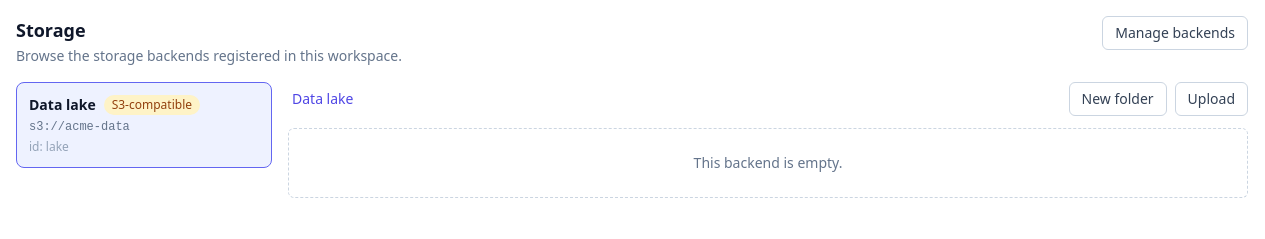
Test: moving between the two views › switches in place with history navigation, without a page reload (which would drop the in-memory token)
Click the button "Manage backends": [1175, 33] box top-left (1102, 16), bottom-right (1248, 50)
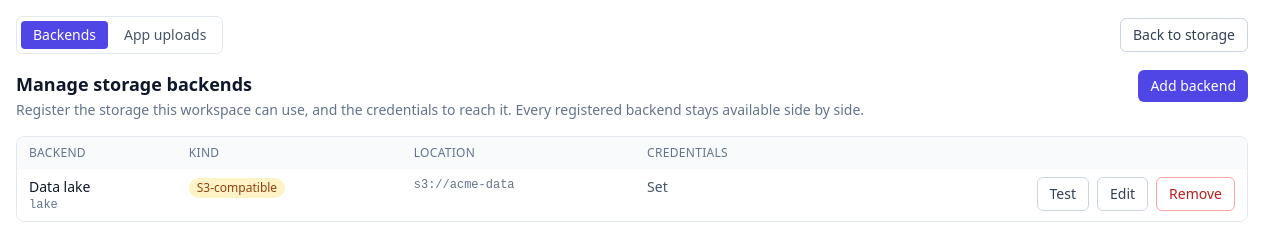
Now the heading "Manage storage backends" is shown, box top-left (16, 72), bottom-right (252, 96)
Click the button "Back to storage": [1184, 35] box top-left (1120, 18), bottom-right (1248, 52)
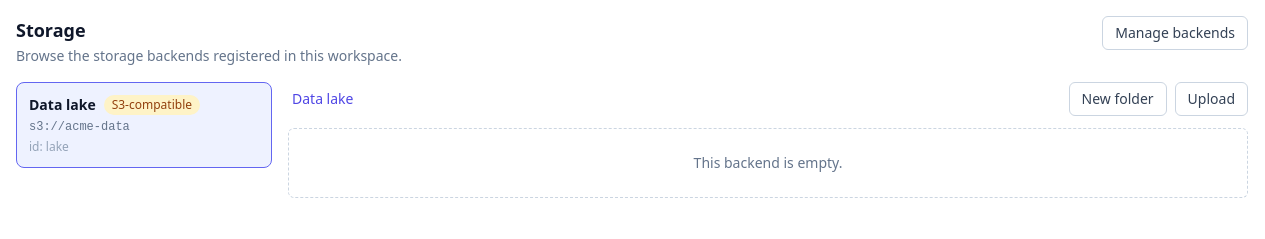
Now the text "Browse the storage backends registered in this workspace." is shown, box top-left (16, 46), bottom-right (402, 66)
